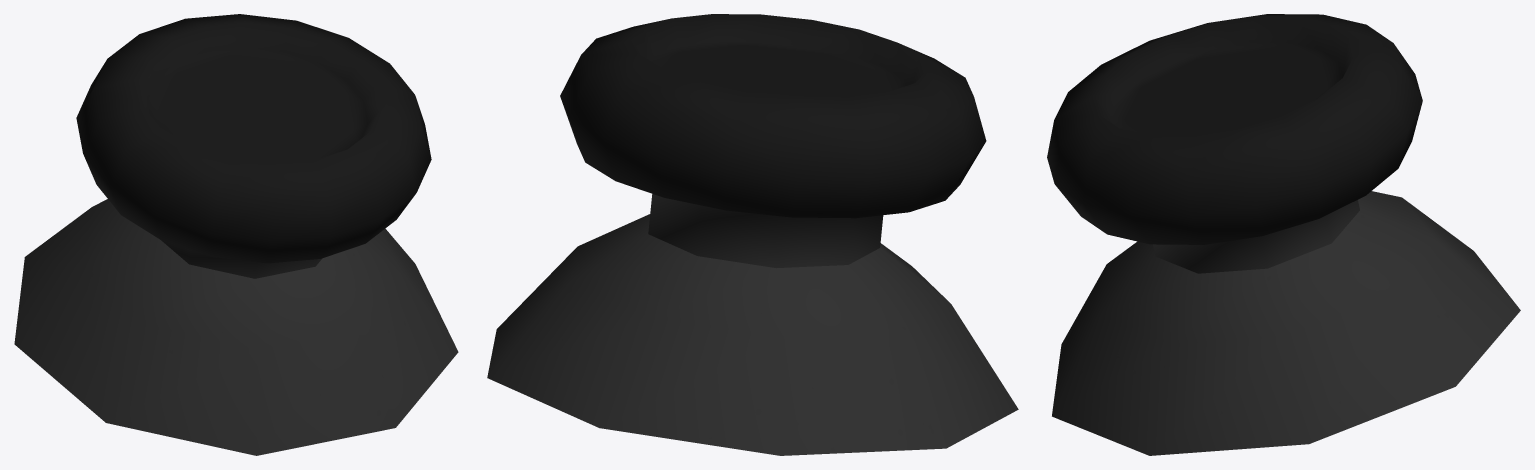
The model's file is oculus_quest_controller_left_joystick.obj.
3 views of the same model, side by side, from view 1: azimuth 30°, elevation 25°; view 2: azimuth 150°, elevation 25°; view 3: azimuth 270°, elevation 25° (orthographic). The views are drawn at different scales.
Bounding box in the file's own units: 0.0168 × 0.0129 × 0.0166.
